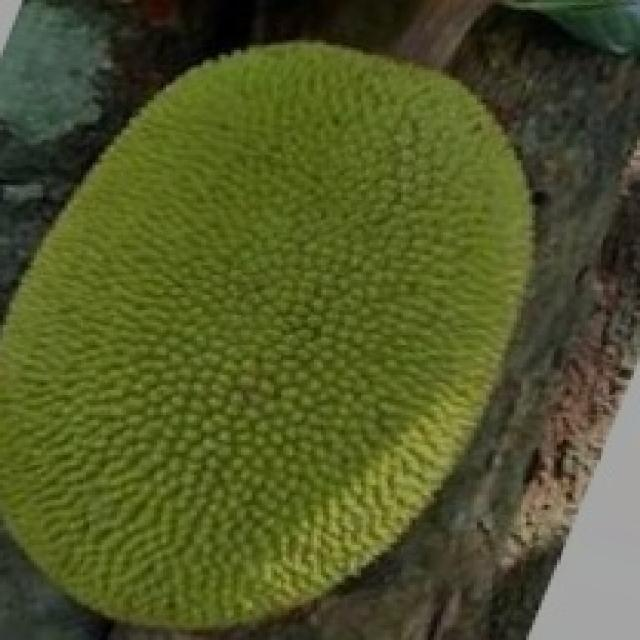Fruit: (0, 5, 397, 455), (225, 0, 597, 450), (0, 292, 388, 640)
